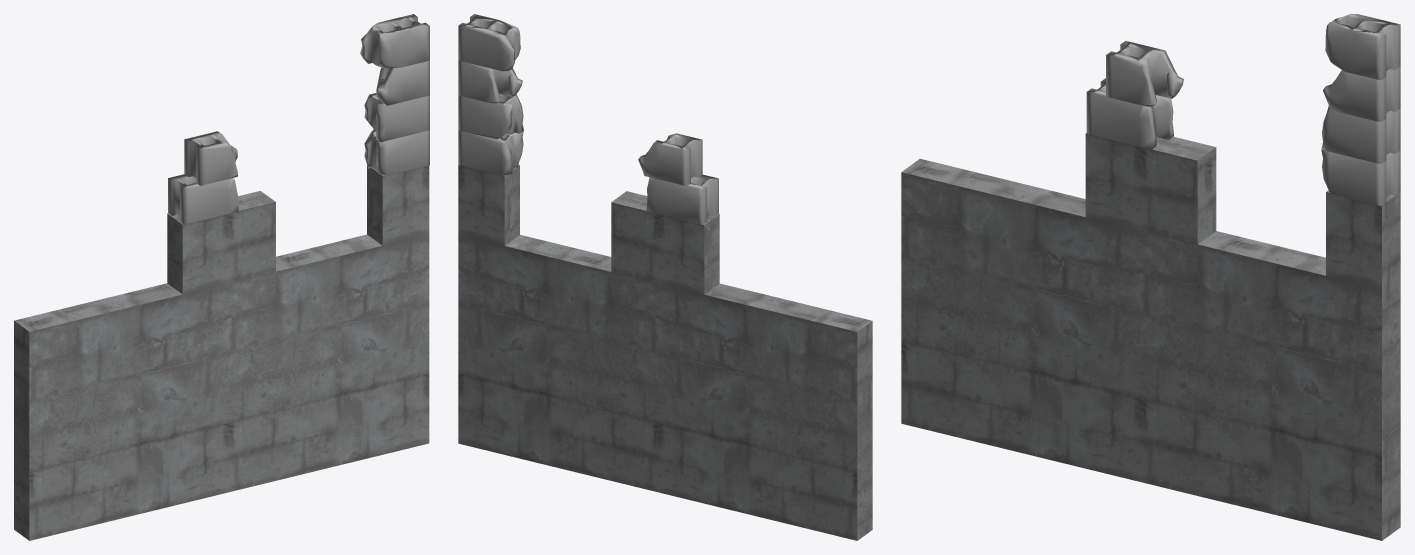
Rendered from wall_2window_01_Broken_01.fbx.
The picture shows the model from 3 angles, left to right: view 1: azimuth 30°, elevation 25°; view 2: azimuth 150°, elevation 25°; view 3: azimuth 330°, elevation 25°; orthographic projection. The views are drawn at different scales.
Visible parts, largest first — view 1: wall_2window_01_Broken_01; view 2: wall_2window_01_Broken_01; view 3: wall_2window_01_Broken_01.
Boxes of the visible parts, x1,y1,x2,y2 form: wall_2window_01_Broken_01: [14, 14, 429, 540]; wall_2window_01_Broken_01: [458, 14, 872, 540]; wall_2window_01_Broken_01: [901, 14, 1400, 540].
Size of the model in its own units: 300 by 300 by 21.4.
Materials: 2 (1 with a texture image).
